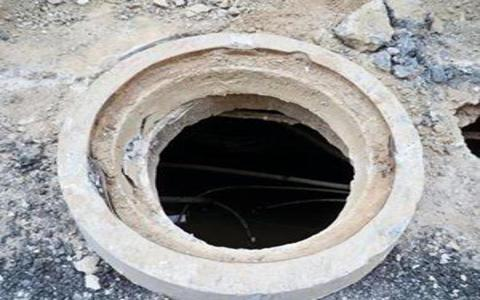open manhole: (56, 29, 398, 259)
